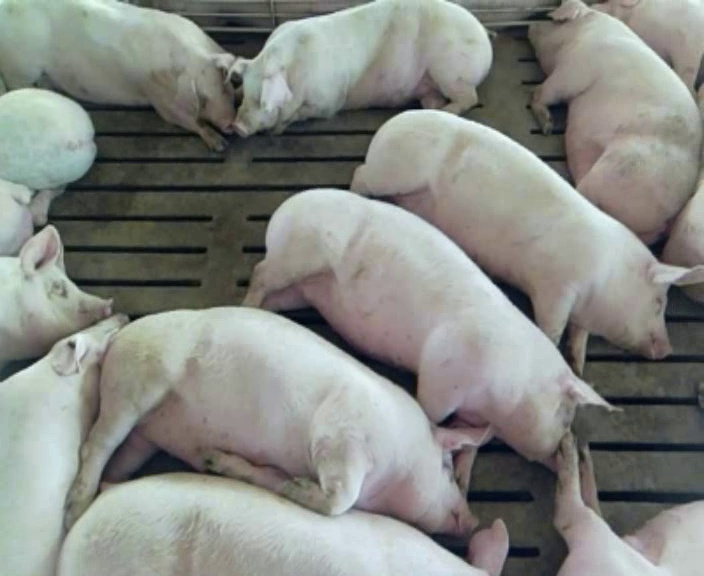pig: (66, 307, 493, 534), (351, 110, 703, 371), (58, 473, 509, 575), (529, 2, 700, 243), (232, 2, 491, 135), (0, 314, 127, 574), (554, 433, 703, 574), (0, 225, 111, 369), (592, 2, 703, 91), (0, 179, 63, 255)
